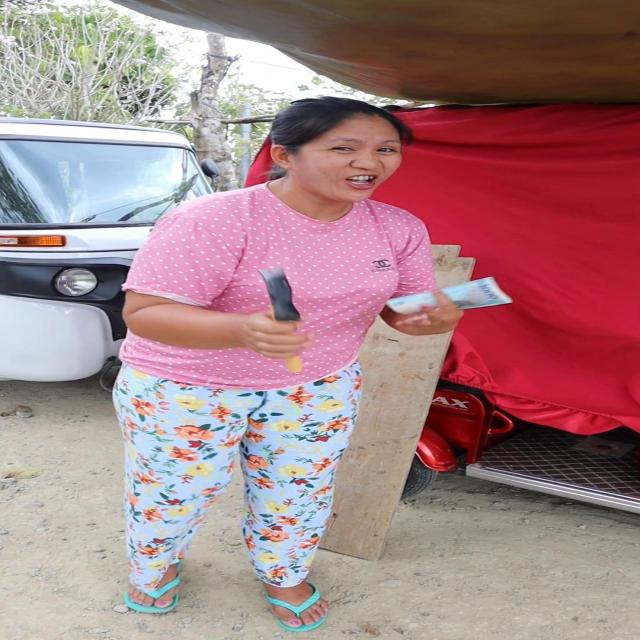hammer: (258, 268, 304, 372)
